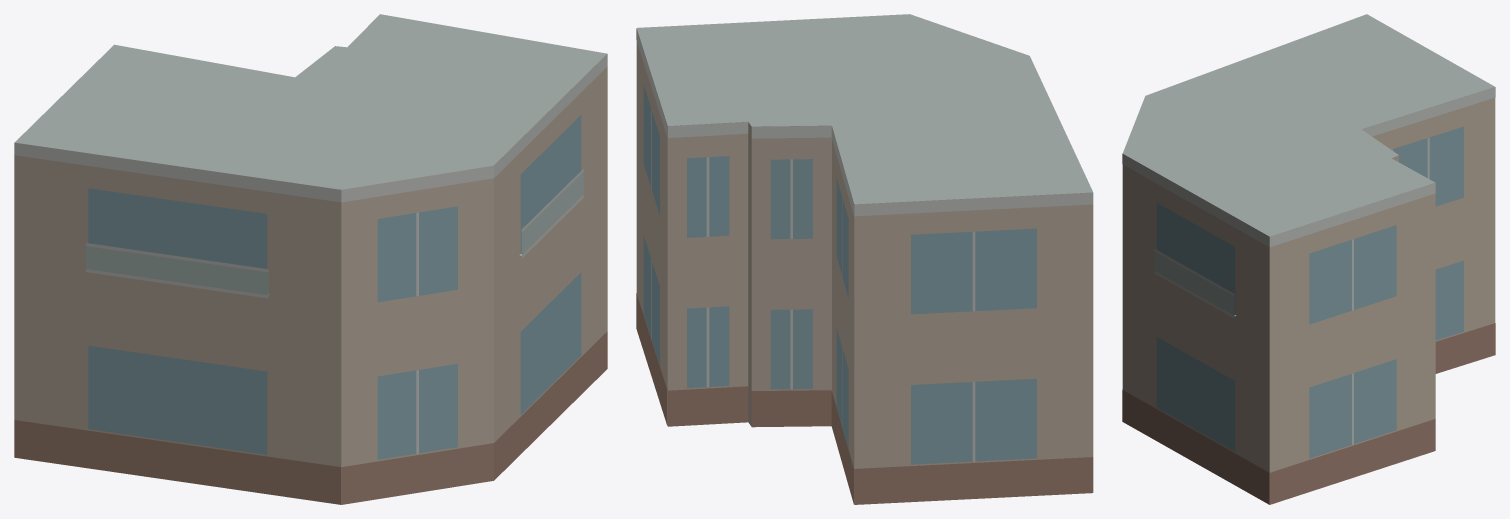
File: survey-upis-32724898.glb
The picture shows the model from 3 angles, left to right: view 1: azimuth 30°, elevation 25°; view 2: azimuth 150°, elevation 25°; view 3: azimuth 270°, elevation 25°; orthographic projection. The views are drawn at different scales.
Visible parts, largest first — view 1: survey-upis-32724898.tmp; view 2: survey-upis-32724898.tmp; view 3: survey-upis-32724898.tmp.
Boxes of the visible parts, x1,y1,x2,y2 form: survey-upis-32724898.tmp: (14,14,607,504); survey-upis-32724898.tmp: (636,14,1093,504); survey-upis-32724898.tmp: (1122,14,1495,504).
Size of the model in its own units: 10.87 by 6.1 by 7.7.
